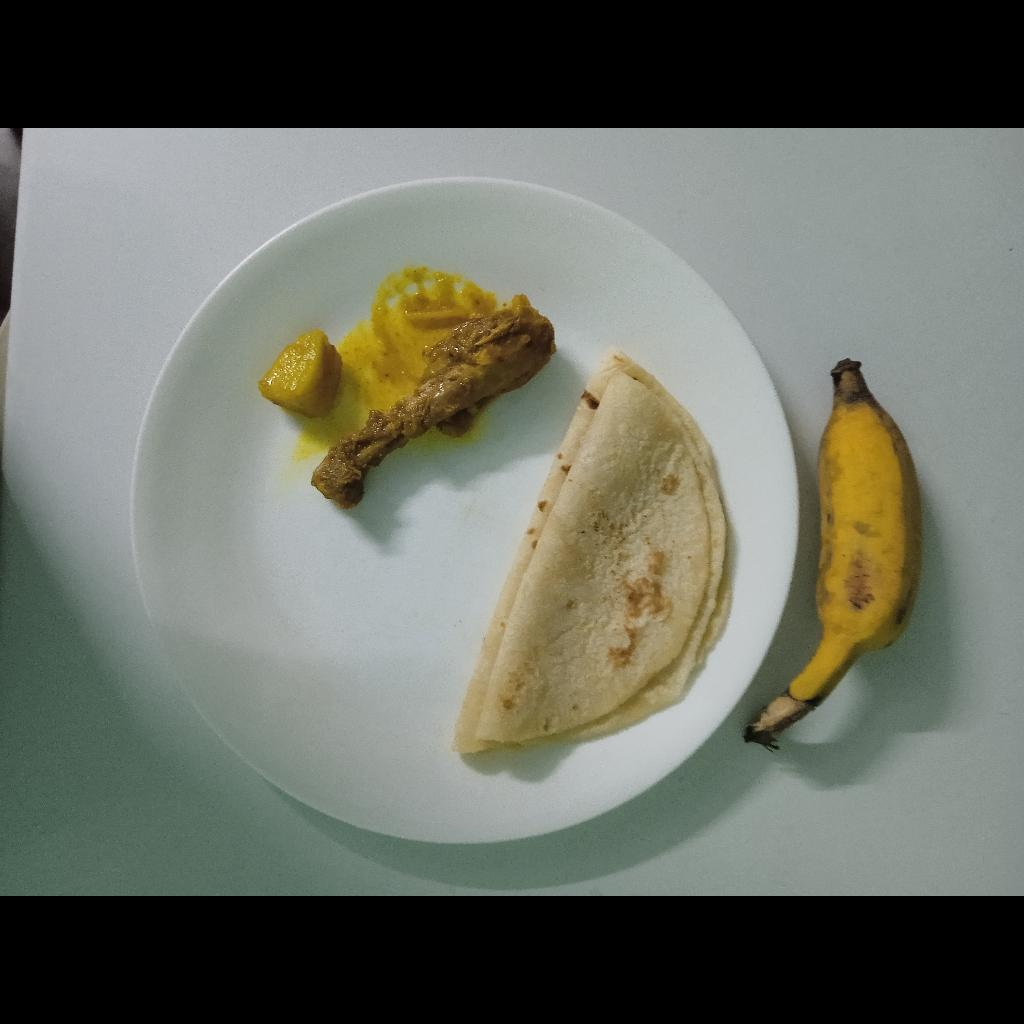banana: (781, 356, 924, 709)
chicken: (312, 299, 561, 510)
potato: (257, 326, 345, 419)
ruti: (456, 347, 729, 747)
